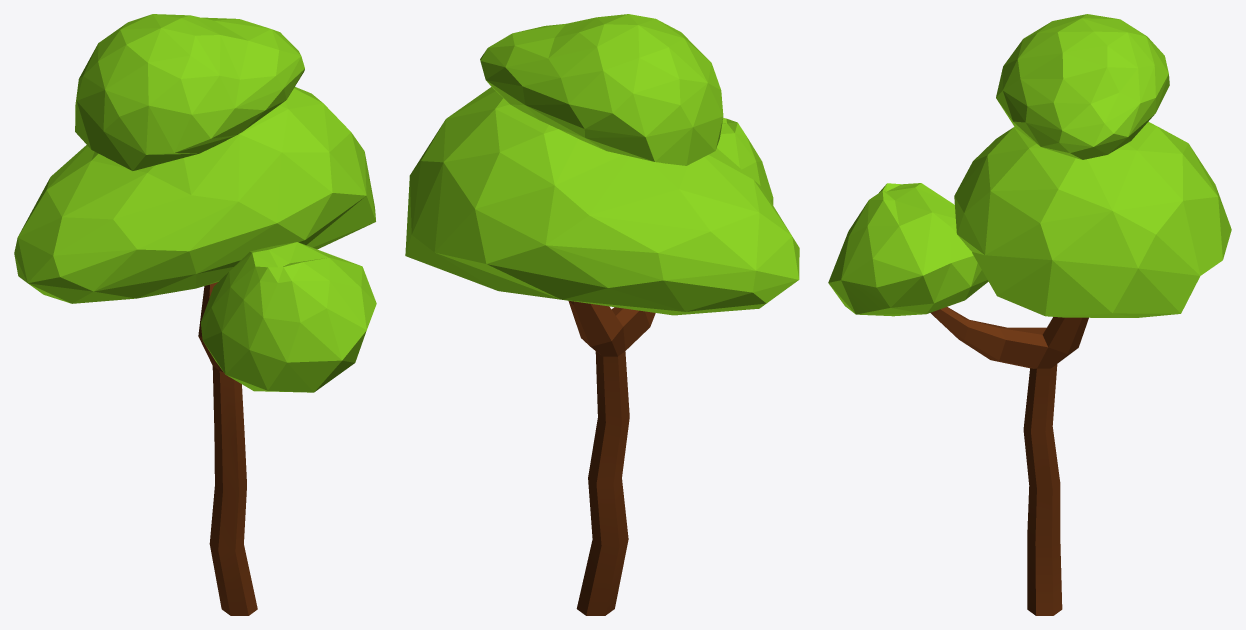
The model's file is Tree5.fbx.
The picture shows the model from 3 angles, left to right: view 1: azimuth 30°, elevation 25°; view 2: azimuth 150°, elevation 25°; view 3: azimuth 270°, elevation 25°; orthographic projection. The views are drawn at different scales.
Visible parts, largest first — view 1: Tree5; view 2: Tree5; view 3: Tree5.
Boxes of the visible parts, x1=… form: Tree5: x1=14, y1=14, x2=376, y2=615; Tree5: x1=405, y1=14, x2=799, y2=615; Tree5: x1=828, y1=14, x2=1231, y2=615.
Bounding box in the file's own units: 628 × 1019 × 662.
